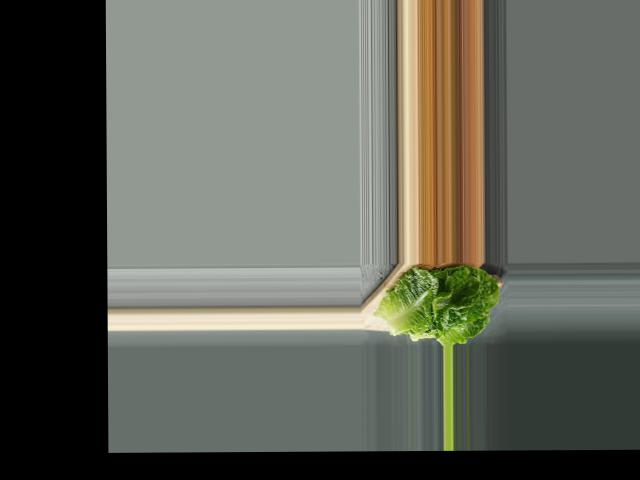lettuce: (378, 261, 503, 345)
